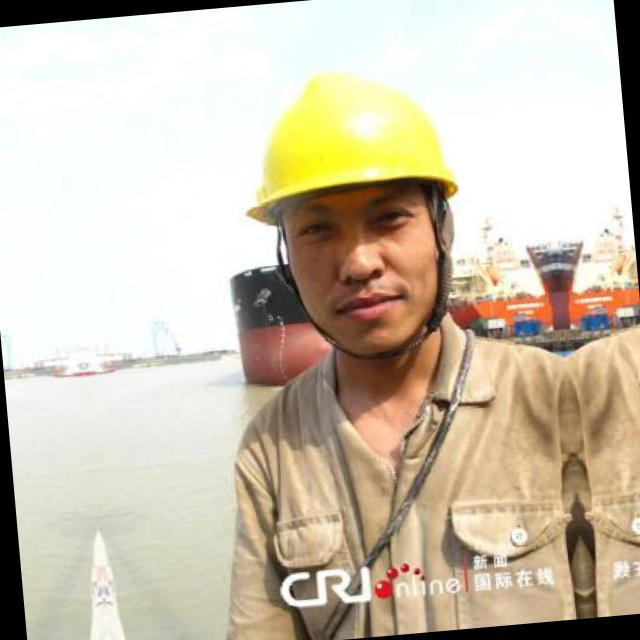helmet: (202, 29, 503, 382)
